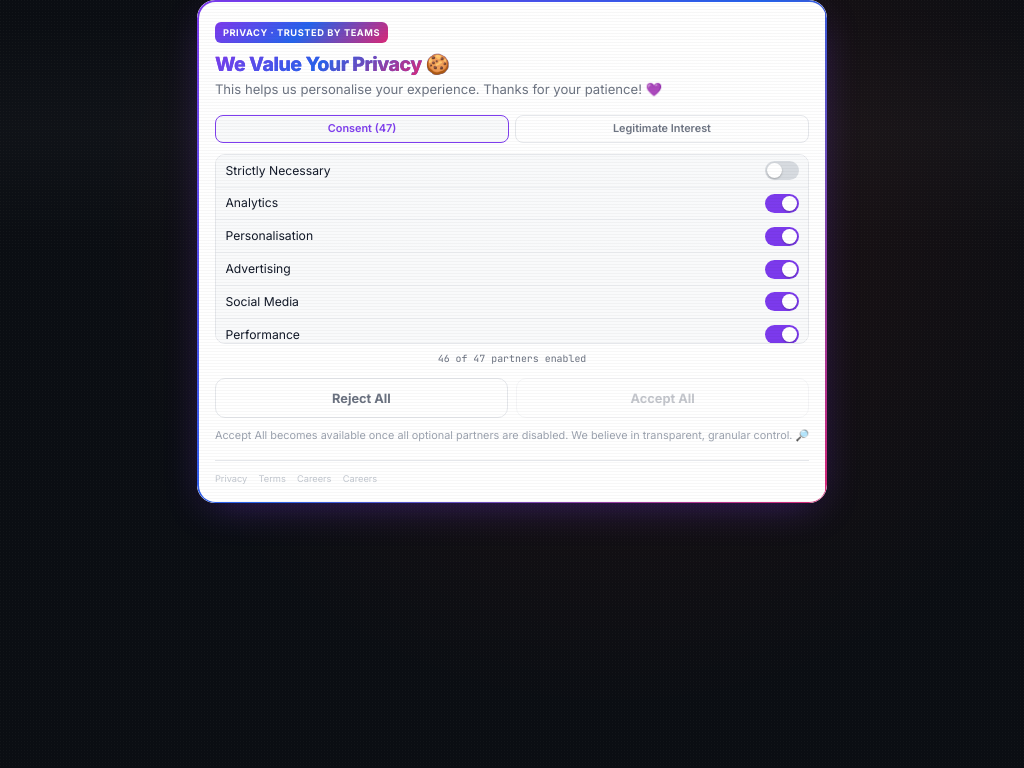
Test case: L05 · Accept Our Cookies › Reject All turns everything on, as promised
The image size is (1024, 768).
Click the button "Reject All" at (361, 398), box left=215, top=378, right=508, bottom=418
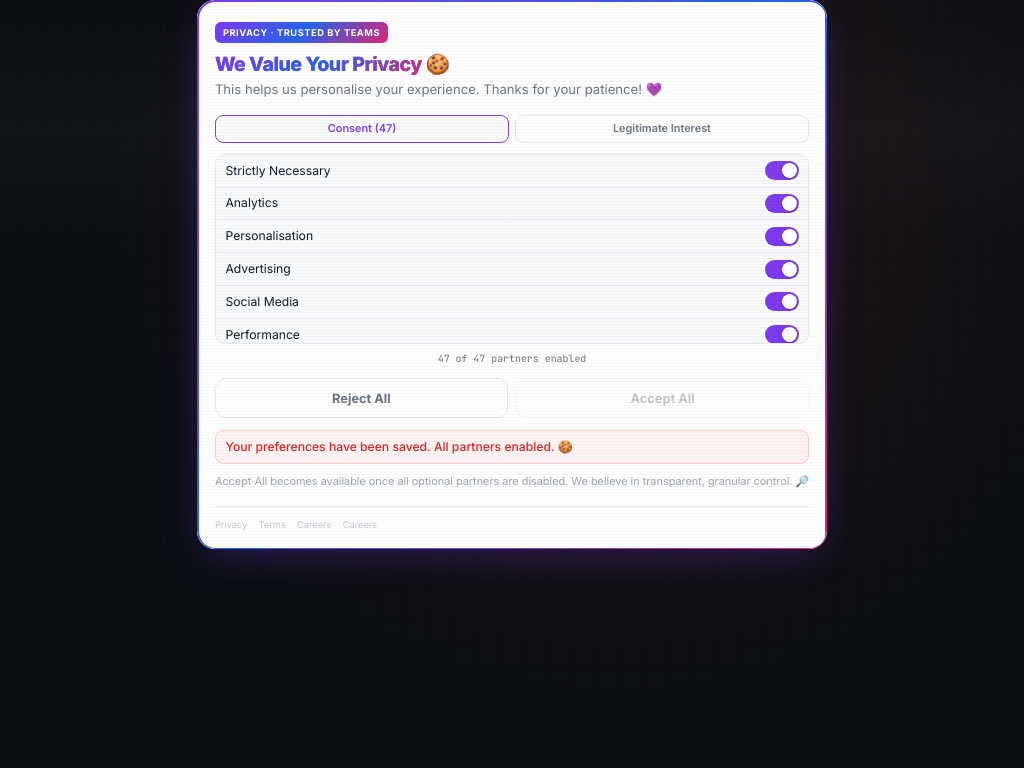
Expected: the text "Your preferences have been saved. All partners enabled. 🍪" is shown, left=215, top=430, right=809, bottom=464
Expected: the text "47 of 47 partners enabled" is shown, left=438, top=352, right=586, bottom=365
